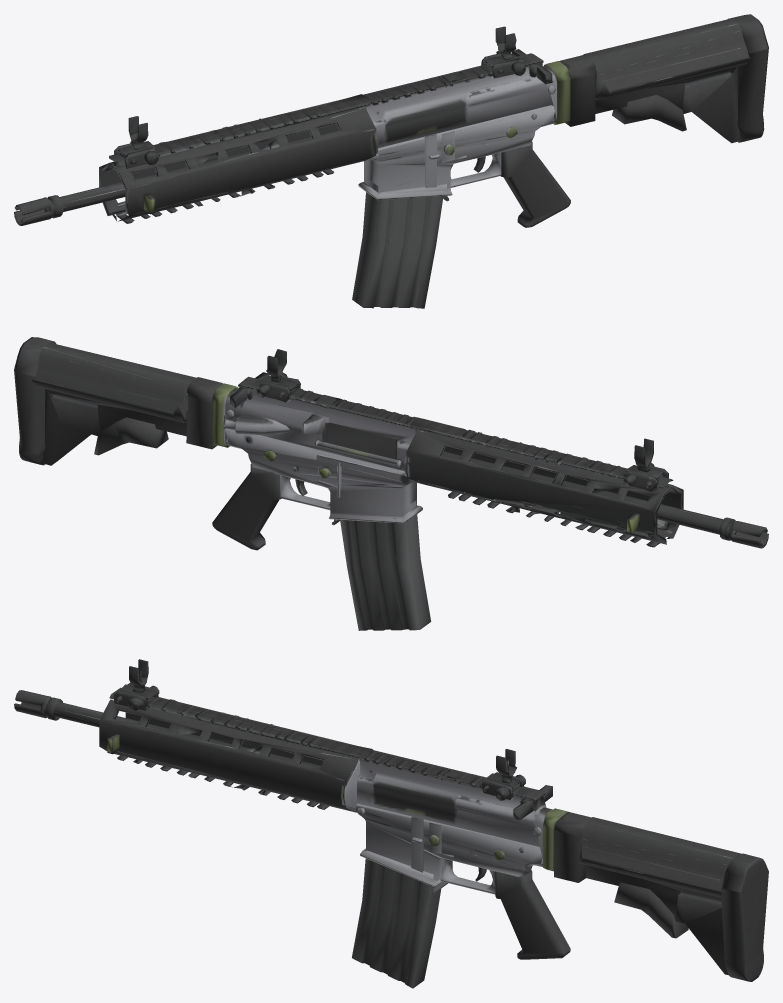
Rendered from ar_vanguard.glb.
3 renders of one model, top to bottom at view 1: azimuth 30°, elevation 25°; view 2: azimuth 150°, elevation 25°; view 3: azimuth 330°, elevation 25°, orthographic.
Size of the model in its own units: 0.957 by 0.313 by 0.0967.
1 material, 1 textured.
